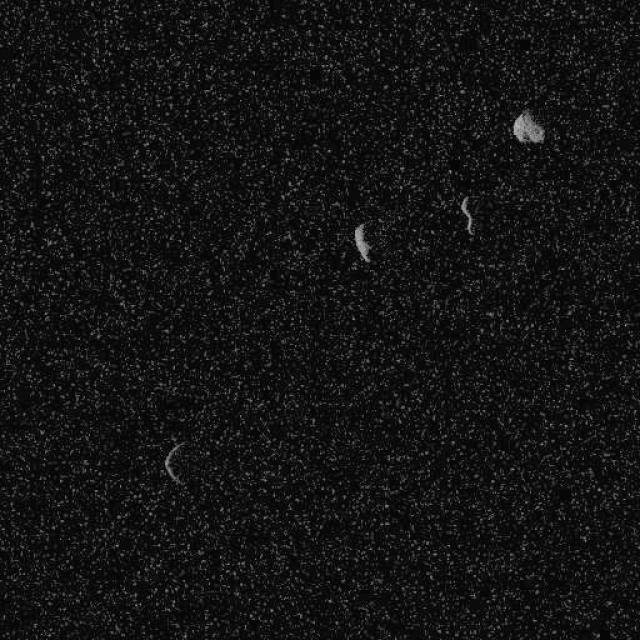D2: (511, 107, 545, 145), (162, 440, 188, 486), (352, 222, 372, 262), (459, 194, 475, 235)
